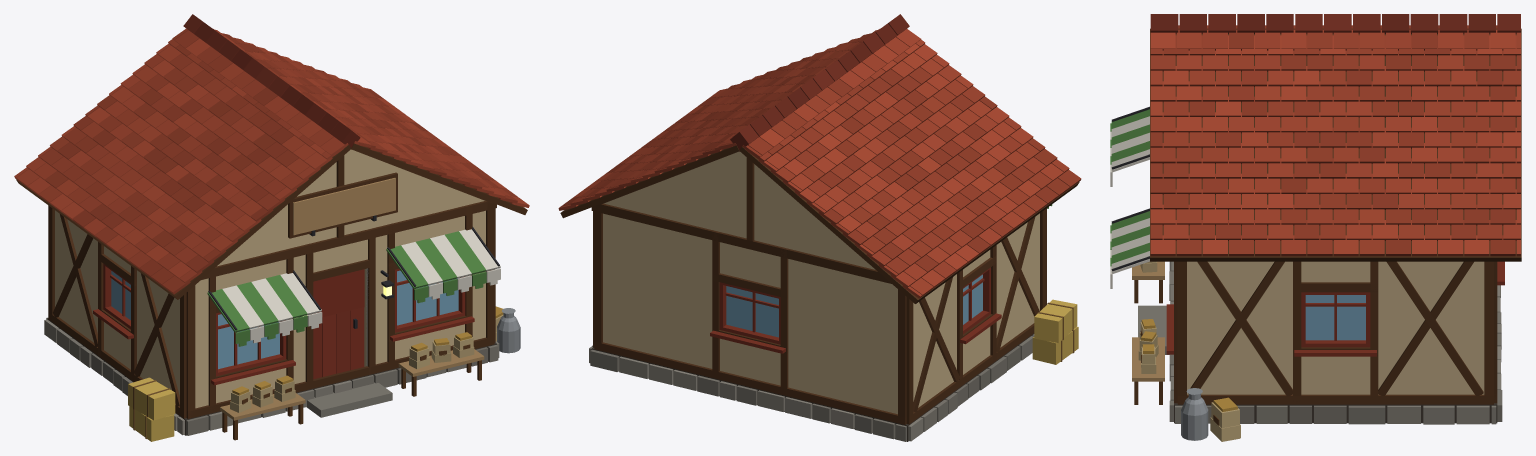
Rendered from tienda_animales.glb.
The picture shows the model from 3 angles, left to right: view 1: azimuth 30°, elevation 25°; view 2: azimuth 150°, elevation 25°; view 3: azimuth 270°, elevation 25°; orthographic projection. The views are drawn at different scales.
Parts seen in each view (by area): view 1: SM_Tienda_animales; view 2: SM_Tienda_animales; view 3: SM_Tienda_animales.
Part boxes in pixels (box(x1,y1,x2,y2)): SM_Tienda_animales: box(14, 14, 529, 441); SM_Tienda_animales: box(558, 14, 1081, 441); SM_Tienda_animales: box(1110, 14, 1521, 441).
Size of the model in its own units: 7.41 by 5.15 by 5.98.
